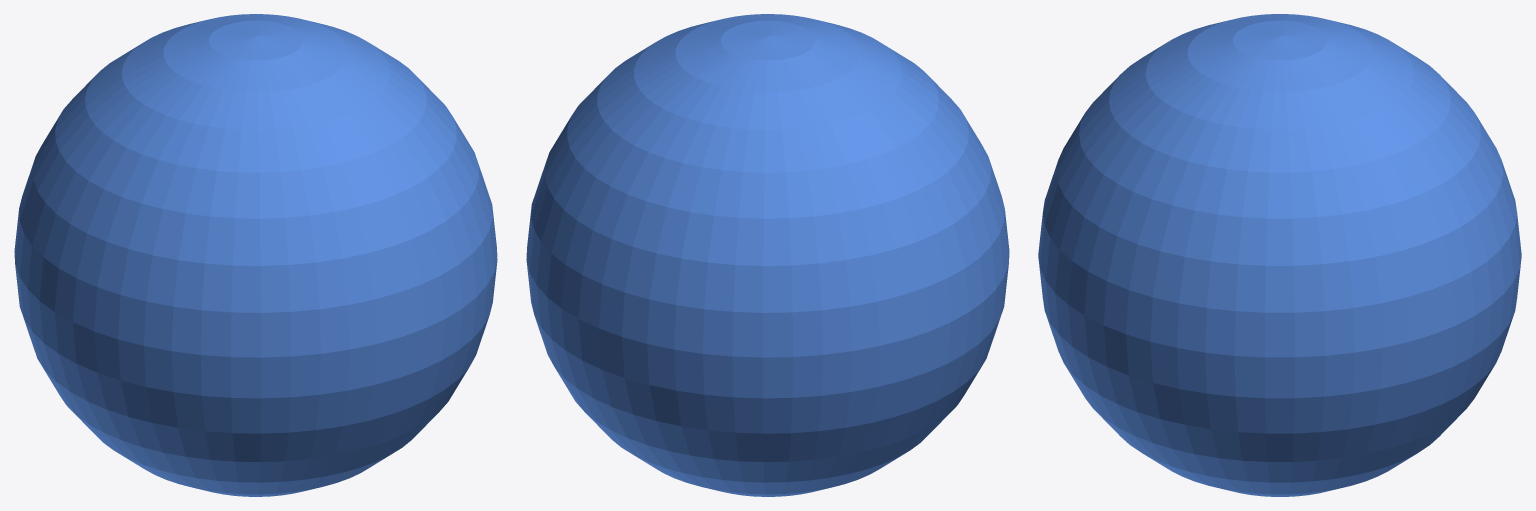
The model's file is CircleBullet.fbx.
3 views of the same model, side by side, from view 1: azimuth 30°, elevation 25°; view 2: azimuth 150°, elevation 25°; view 3: azimuth 270°, elevation 25° (orthographic).
Parts seen in each view (by area): view 1: Sphere; view 2: Sphere; view 3: Sphere.
Boxes of the visible parts, box(x1,y1,x2,y2) form: Sphere: box(14, 14, 497, 496); Sphere: box(526, 14, 1009, 496); Sphere: box(1038, 14, 1521, 496).
Bounding box in the file's own units: 200 × 200 × 200.
